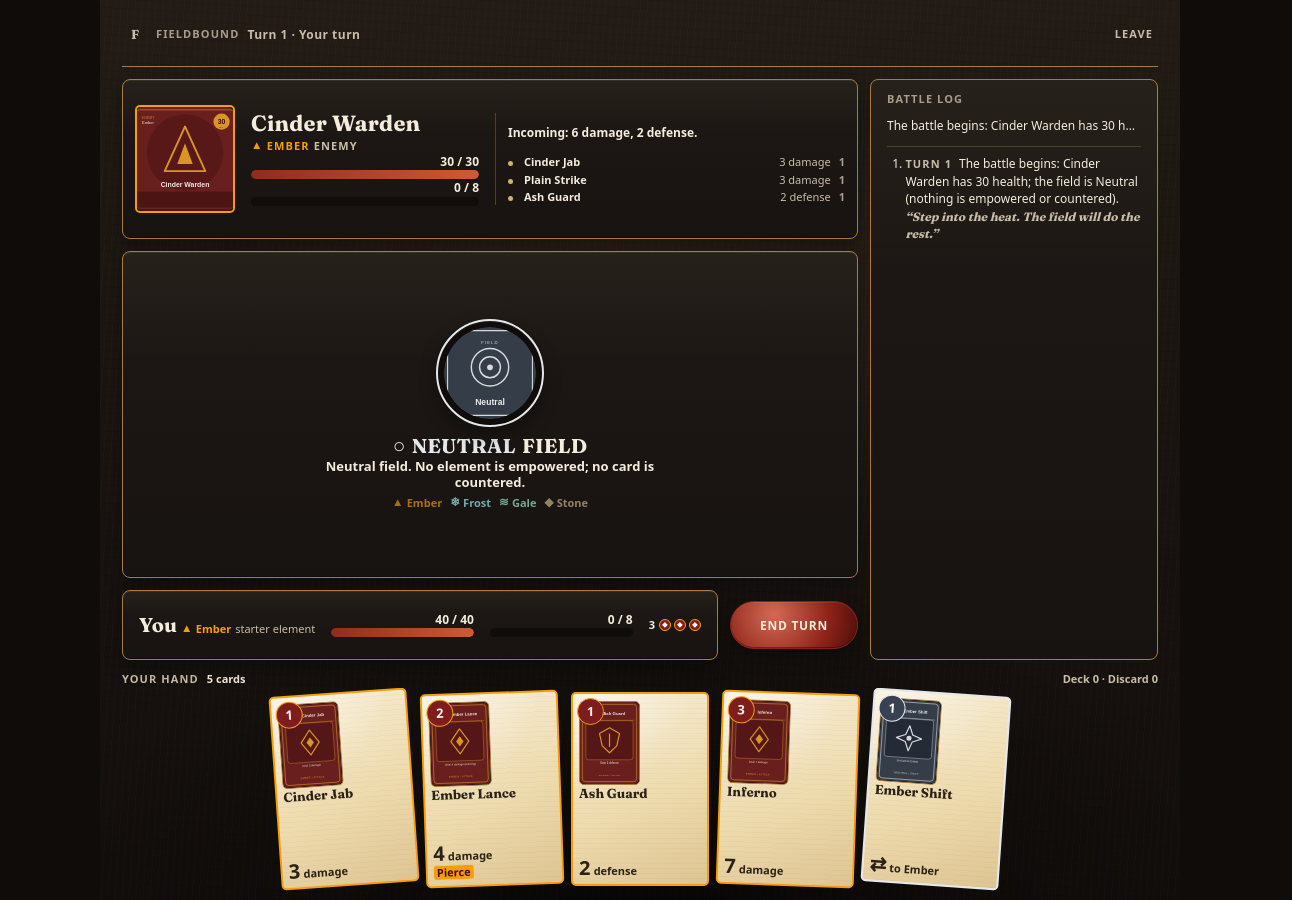
Test: App battle screen › ends the turn, runs the enemy plan and returns control
This screenshot has width=1292, height=900.
Click the button "End Turn": (794, 625) top-left (730, 601), bottom-right (858, 649)
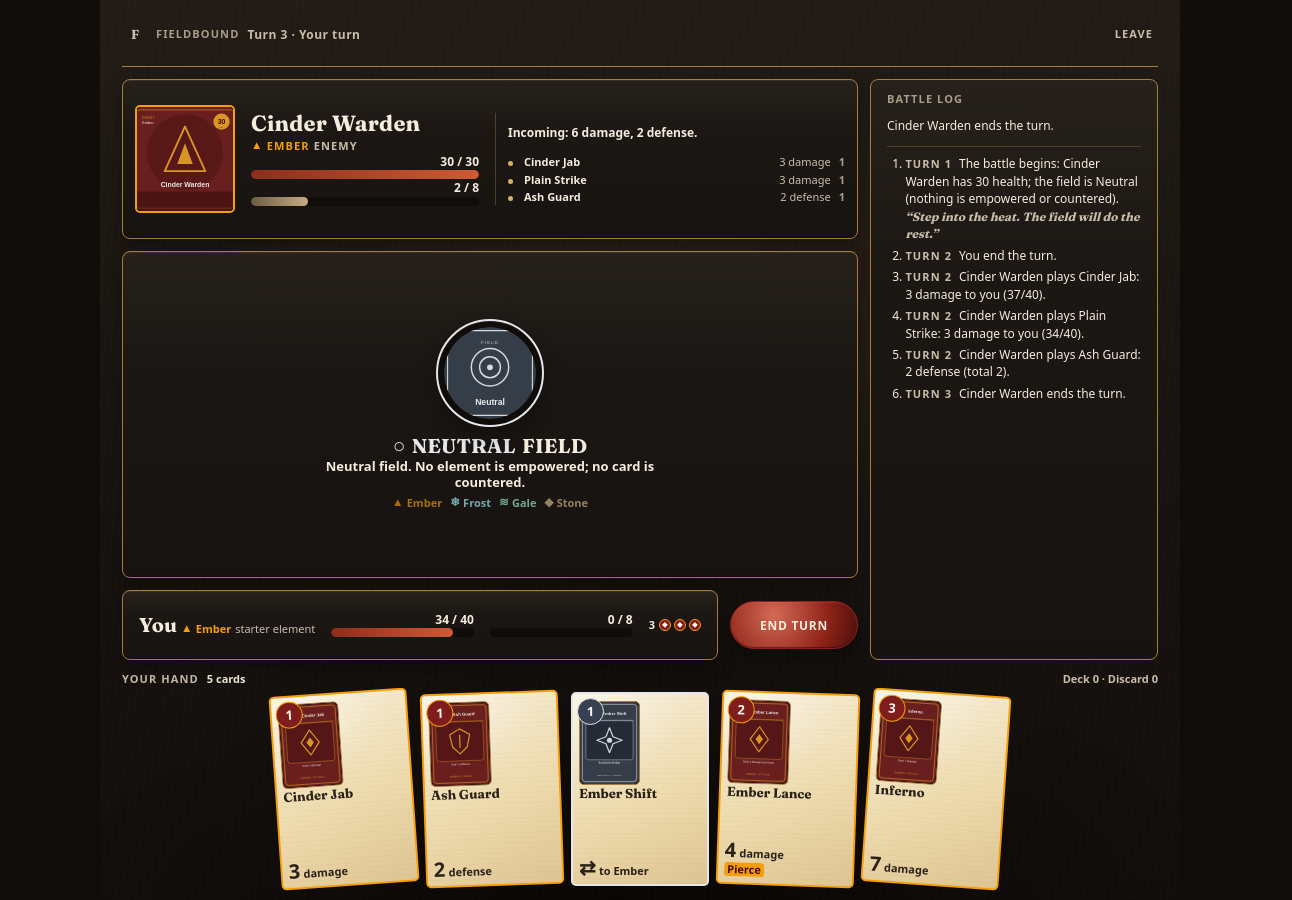
expect the list named "Enemy plan" is shown: met, box top-left (508, 154), bottom-right (845, 205)
expect the text "Turn 3 · Your turn" is shown: met, box top-left (247, 26), bottom-right (360, 42)
